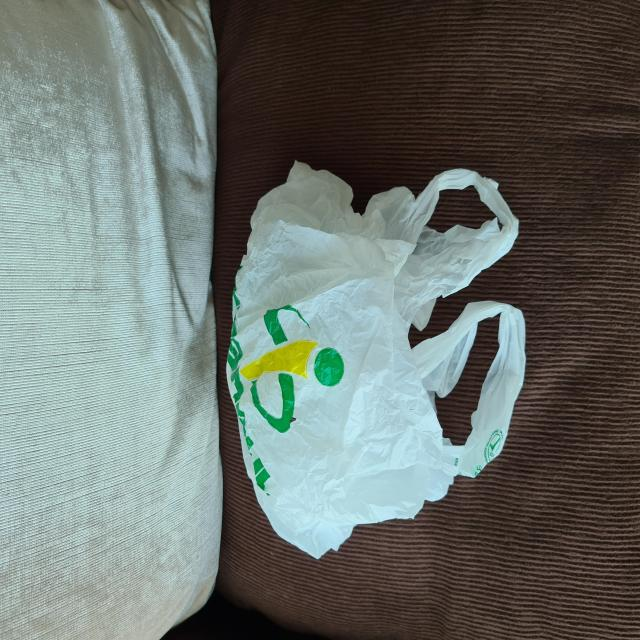plastic bag: (229, 158, 526, 557)
